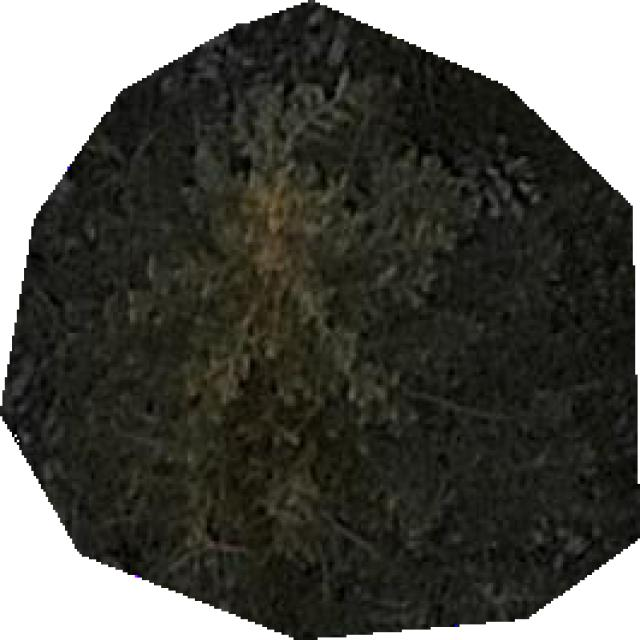spruce: (0, 3, 638, 637)
